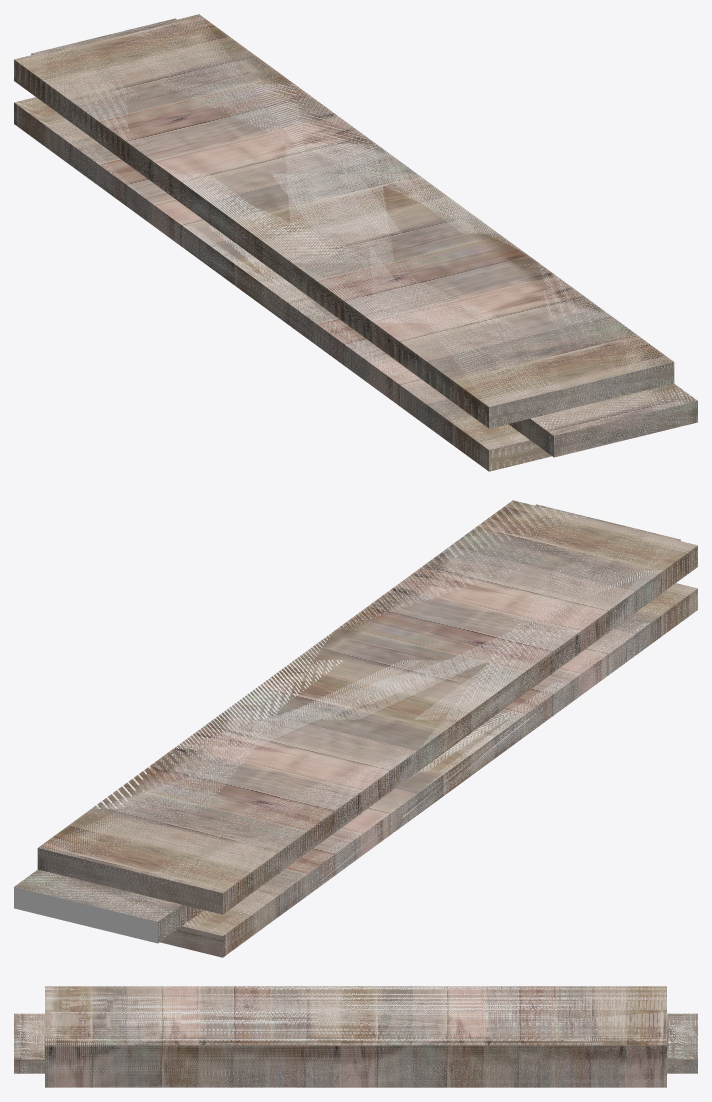
File: original-49.obj
3 renders of one model, top to bottom at view 1: azimuth 30°, elevation 25°; view 2: azimuth 150°, elevation 25°; view 3: azimuth 270°, elevation 25°, orthographic. The views are drawn at different scales.
Visible parts, largest first — view 1: G._Rails6/G._Rails12/mesh25/mesh25-geometry#mesh25-geometry; view 2: G._Rails6/G._Rails12/mesh25/mesh25-geometry#mesh25-geometry; view 3: G._Rails6/G._Rails12/mesh25/mesh25-geometry#mesh25-geometry.
Boxes of the visible parts, left/top/right/bottom form: G._Rails6/G._Rails12/mesh25/mesh25-geometry#mesh25-geometry: left=14, top=14, right=697, bottom=471; G._Rails6/G._Rails12/mesh25/mesh25-geometry#mesh25-geometry: left=14, top=500, right=697, bottom=957; G._Rails6/G._Rails12/mesh25/mesh25-geometry#mesh25-geometry: left=14, top=986, right=697, bottom=1087.
Size of the model in its own units: 0.0331 by 0.011 by 0.1619.
